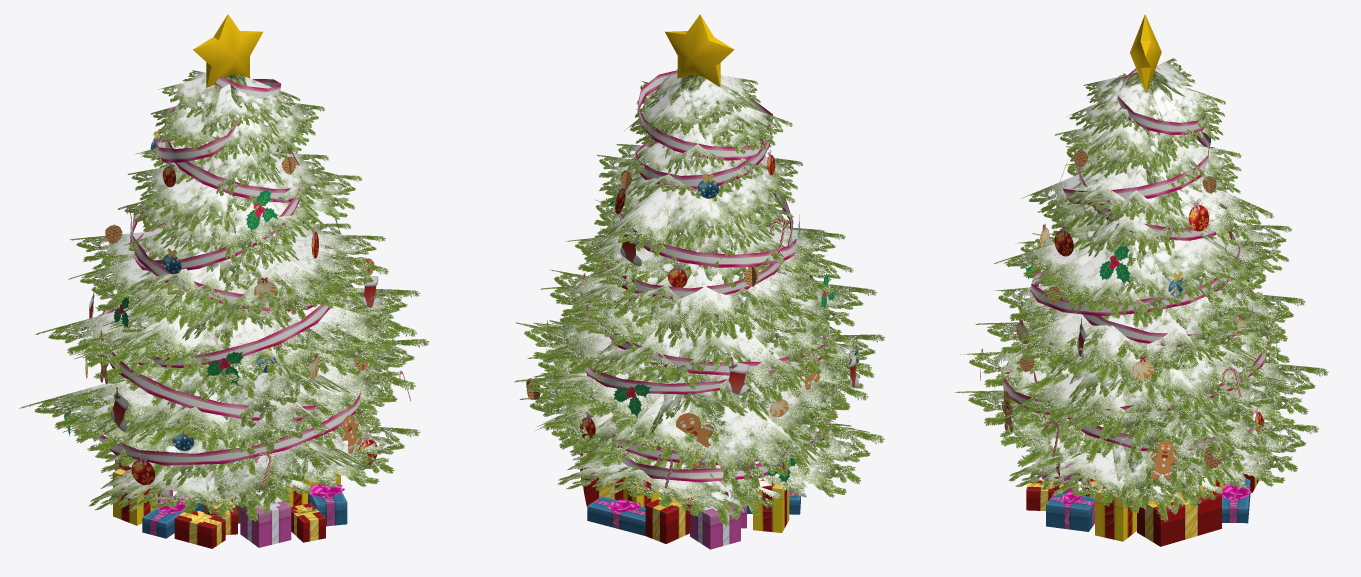
The model's file is christmas tree.fbx.
3 views of the same model, side by side, from view 1: azimuth 30°, elevation 25°; view 2: azimuth 150°, elevation 25°; view 3: azimuth 270°, elevation 25° (orthographic). The views are drawn at different scales.
Parts seen in each view (by area): view 1: leaf, ribbon, star, christmas_present_05, christmas_present_13, christmas_present_06, christmas_present_14, christmas_present_09, christmas_present_15, holly5, holly6, bauble_red6; view 2: leaf, ribbon, star, christmas_present_12, christmas_present_11, christmas_present_10, christmas_present_15, gingerbread4, christmas_present_08, holly3, stocking_red1; view 3: leaf, ribbon, christmas_present_08, christmas_present_06, christmas_present_07, star, christmas_present_10, christmas_present_09, gingerbread3, holly4, bauble_red3.
Boxes of the visible parts, box(x1,y1,x2,y2) form: leaf: box(19, 70, 429, 521); ribbon: box(79, 76, 367, 465); star: box(193, 14, 263, 87); christmas_present_05: box(240, 496, 291, 547); christmas_present_13: box(174, 510, 225, 548); christmas_present_06: box(308, 483, 347, 526); christmas_present_14: box(142, 493, 202, 538); christmas_present_09: box(291, 503, 325, 542); christmas_present_15: box(113, 463, 157, 525); holly5: box(245, 186, 278, 231); holly6: box(206, 351, 243, 385); bauble_red6: box(131, 453, 154, 485); leaf: box(514, 74, 885, 526); ribbon: box(572, 70, 836, 482); star: box(665, 14, 734, 87); christmas_present_12: box(690, 497, 740, 549); christmas_present_11: box(645, 496, 693, 543); christmas_present_10: box(587, 496, 645, 535); christmas_present_15: box(753, 478, 789, 532); gingerbread4: box(676, 413, 718, 468); christmas_present_08: box(580, 451, 625, 506); holly3: box(613, 383, 651, 418); stocking_red1: box(726, 357, 749, 395); leaf: box(955, 58, 1328, 521); ribbon: box(1001, 68, 1269, 469); christmas_present_08: box(1137, 484, 1221, 546); christmas_present_06: box(1046, 490, 1094, 531); christmas_present_07: box(1095, 482, 1136, 541); star: box(1130, 14, 1161, 93); christmas_present_10: box(1220, 479, 1251, 523); christmas_present_09: box(1026, 479, 1065, 511); gingerbread3: box(1150, 440, 1178, 480); holly4: box(1099, 245, 1130, 283); bauble_red3: box(1188, 198, 1208, 231).
Bounding box in the file's own units: 507 × 615 × 462.
